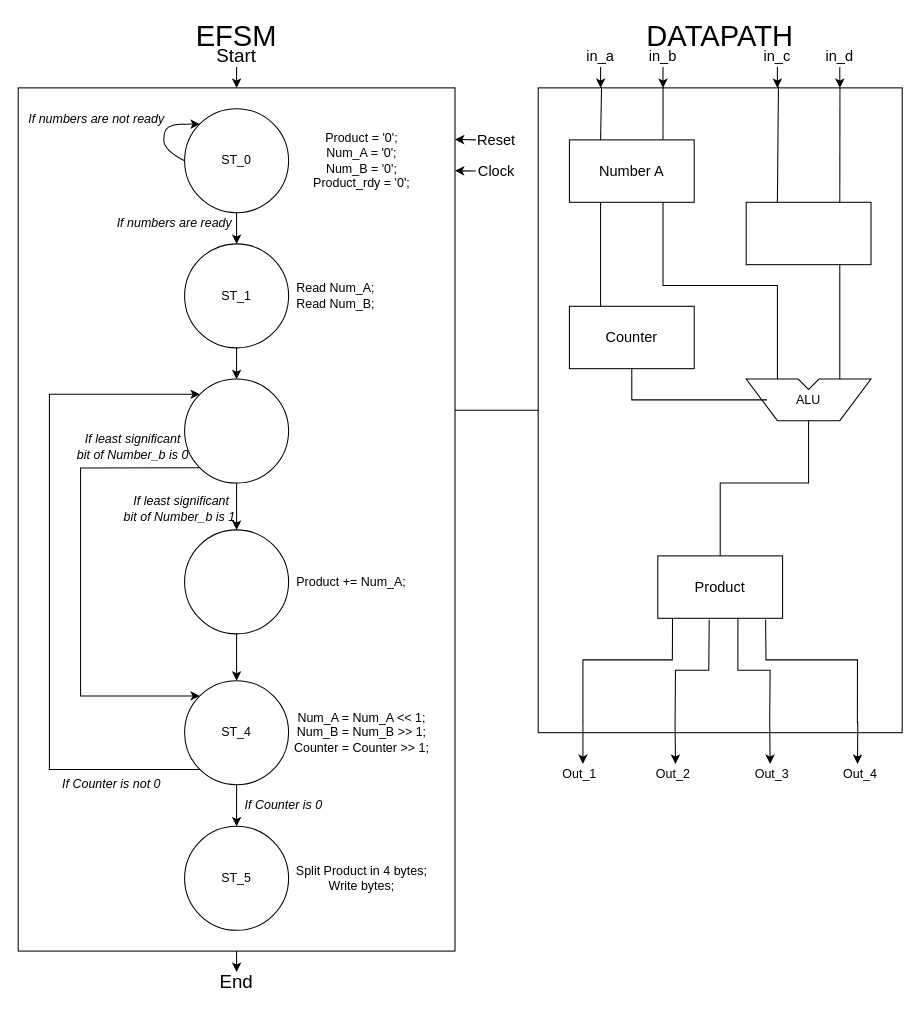
Image size: 920x1011. Some labels were removed from this diagram. Each missing label, with the centre of its shape:
"Number B" goes at point (808, 233).
"ST_2" goes at point (236, 430).
"ST_3" goes at point (236, 581).
